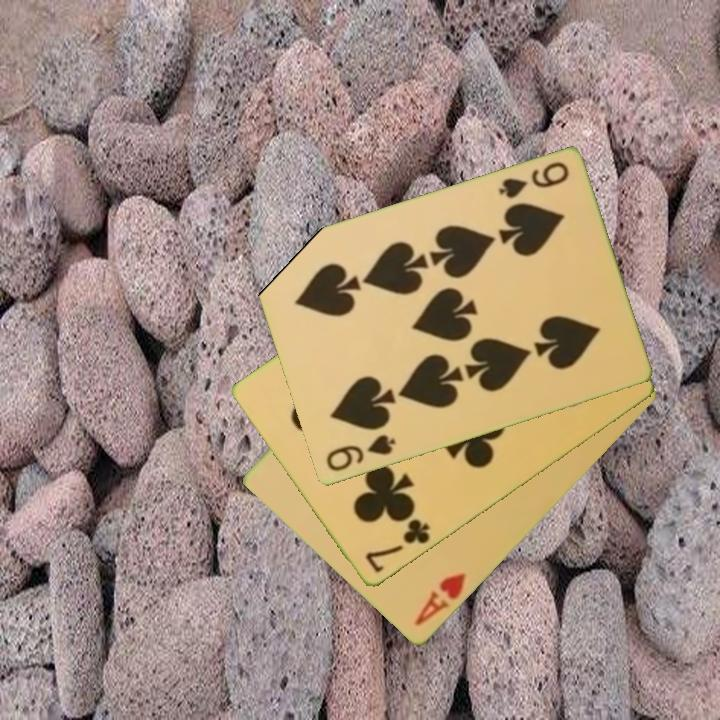7c: (361, 515, 433, 577)
9s: (494, 158, 572, 202), (322, 431, 398, 475)
Ah: (411, 570, 469, 630)
